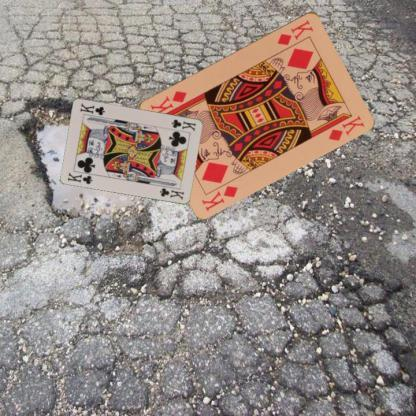Kc: (65, 170, 94, 186), (169, 116, 197, 132)
Kd: (198, 182, 240, 212), (274, 16, 315, 46)
